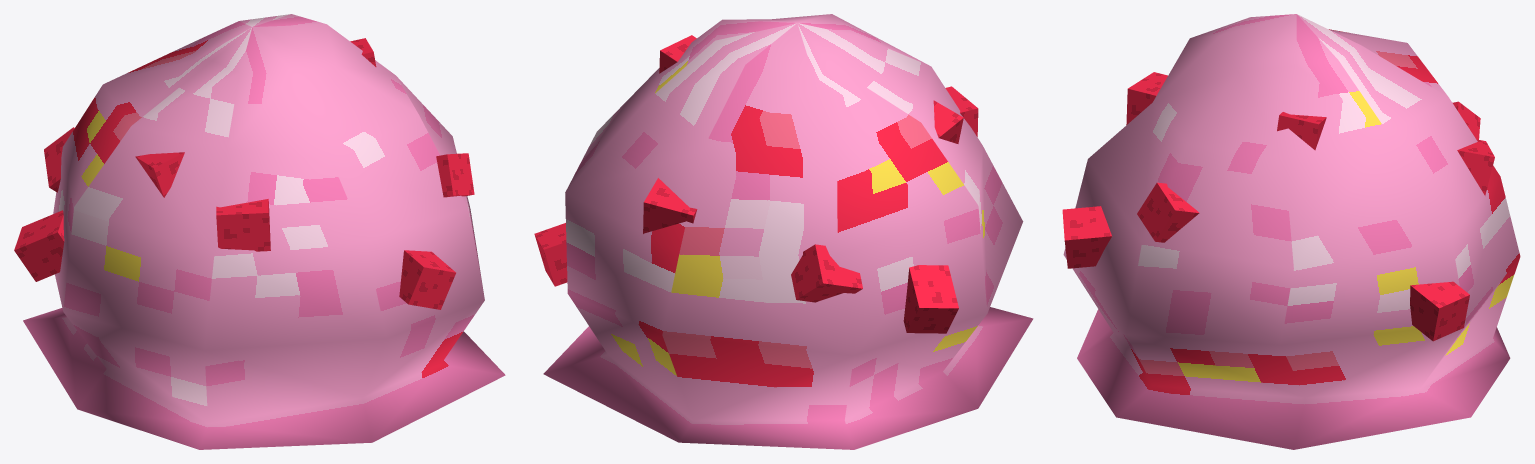
Rendered from Scoop Grenade Strawberry.fbx.
3 renders of one model, left to right at view 1: azimuth 30°, elevation 25°; view 2: azimuth 150°, elevation 25°; view 3: azimuth 270°, elevation 25°, orthographic.
Visible parts, largest first — view 1: Scoop Grenade Strawberry scoop, Scoop Grenade Strawberry scoop bit 7, Scoop Grenade Strawberry scoop bit 6, Scoop Grenade Strawberry scoop bit 4, Scoop Grenade Strawberry scoop bit 8, Scoop Grenade Strawberry scoop bit 5, Scoop Grenade Strawberry scoop bit 3; view 2: Scoop Grenade Strawberry scoop, Scoop Grenade Strawberry scoop bit 4, Scoop Grenade Strawberry scoop bit 3, Scoop Grenade Strawberry scoop bit 2, Scoop Grenade Strawberry scoop bit 1, Scoop Grenade Strawberry scoop bit 5, Scoop Grenade Strawberry scoop bit 0, Scoop Grenade Strawberry scoop bit 6; view 3: Scoop Grenade Strawberry scoop, Scoop Grenade Strawberry scoop bit 1, Scoop Grenade Strawberry scoop bit 7, Scoop Grenade Strawberry scoop bit 8, Scoop Grenade Strawberry scoop bit 2, Scoop Grenade Strawberry scoop bit 6, Scoop Grenade Strawberry scoop bit 0, Scoop Grenade Strawberry scoop bit 3.
Boxes of the visible parts, x1=… form: Scoop Grenade Strawberry scoop: x1=23, y1=14, x2=505, y2=449; Scoop Grenade Strawberry scoop bit 7: x1=399, y1=250, x2=455, y2=309; Scoop Grenade Strawberry scoop bit 6: x1=216, y1=199, x2=270, y2=251; Scoop Grenade Strawberry scoop bit 4: x1=14, y1=210, x2=64, y2=281; Scoop Grenade Strawberry scoop bit 8: x1=436, y1=153, x2=474, y2=197; Scoop Grenade Strawberry scoop bit 5: x1=135, y1=152, x2=184, y2=197; Scoop Grenade Strawberry scoop bit 3: x1=44, y1=127, x2=74, y2=192; Scoop Grenade Strawberry scoop: x1=543, y1=14, x2=1033, y2=449; Scoop Grenade Strawberry scoop bit 4: x1=903, y1=265, x2=958, y2=333; Scoop Grenade Strawberry scoop bit 3: x1=791, y1=244, x2=862, y2=302; Scoop Grenade Strawberry scoop bit 2: x1=643, y1=178, x2=697, y2=233; Scoop Grenade Strawberry scoop bit 1: x1=534, y1=223, x2=567, y2=286; Scoop Grenade Strawberry scoop bit 5: x1=933, y1=100, x2=963, y2=143; Scoop Grenade Strawberry scoop bit 0: x1=659, y1=35, x2=696, y2=73; Scoop Grenade Strawberry scoop bit 6: x1=945, y1=86, x2=978, y2=136; Scoop Grenade Strawberry scoop: x1=1063, y1=14, x2=1520, y2=449; Scoop Grenade Strawberry scoop bit 1: x1=1410, y1=281, x2=1469, y2=341; Scoop Grenade Strawberry scoop bit 7: x1=1062, y1=206, x2=1111, y2=268; Scoop Grenade Strawberry scoop bit 8: x1=1137, y1=182, x2=1199, y2=242; Scoop Grenade Strawberry scoop bit 2: x1=1457, y1=139, x2=1494, y2=195; Scoop Grenade Strawberry scoop bit 6: x1=1126, y1=72, x2=1167, y2=124; Scoop Grenade Strawberry scoop bit 0: x1=1277, y1=112, x2=1326, y2=150; Scoop Grenade Strawberry scoop bit 3: x1=1452, y1=101, x2=1480, y2=139.
Bounding box in the file's own units: 0.108 × 0.0898 × 0.1044.
Materials: 2 (2 with a texture image).
